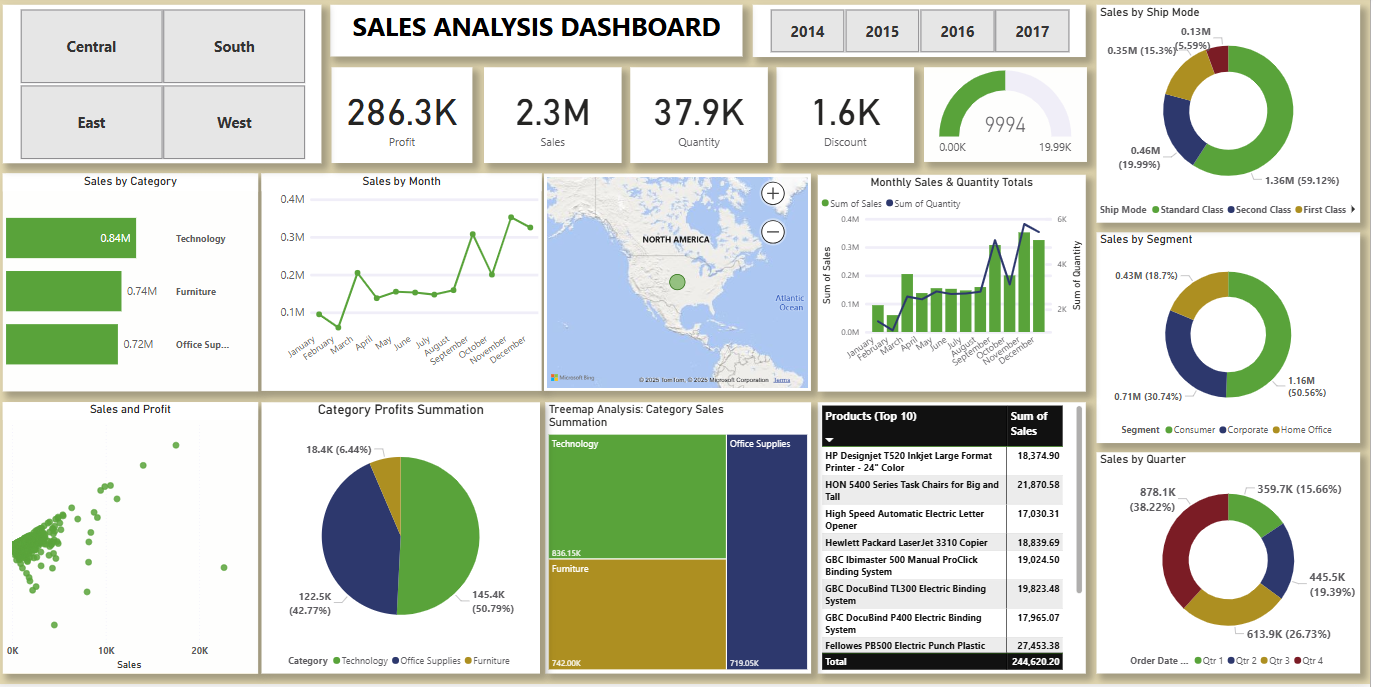

What the dashboard file says about the page in this screenshot:
{"tool":"powerbi","page":{"name":"Sales Analysis Dashboard","canvas":[2000,1000],"ordinal":0},"visuals":[{"type":"barChart","title":"Sales by Category","fields":{"Y":["Sum(sample_-_superstore xls - Orders.Sales)"],"Category":["sample_-_superstore xls - Orders.Category"]},"box":[12.4,258.1,370.9,316.8],"z":0},{"type":"lineChart","title":"Sales by Month","fields":{"Y":["Sum(sample_-_superstore xls - Orders.Sales)"],"Category":["sample_-_superstore xls - Orders.Order Date.Variation.Date Hierarchy.Month"]},"box":[388.1,257.7,407.1,316.3],"z":1000},{"type":"scatterChart","fields":{"X":["sample_-_superstore xls - Orders.Sales"],"Y":["sample_-_superstore xls - Orders.Profit"]},"box":[12.4,590.4,370.9,394.1],"z":2000},{"type":"pieChart","title":"Sales by Segment","fields":{"Category":["sample_-_superstore xls - Orders.Segment"],"Y":["Sum(sample_-_superstore xls - Orders.Sales)"]},"box":[1602.5,343.3,383.4,306.4],"z":3000},{"type":"map","title":"Sales by Country","fields":{"Category":["sample_-_superstore xls - Orders.Country"],"Size":["Sum(sample_-_superstore xls - Orders.Sales)"]},"box":[799,258,388.1,316.1],"z":4000},{"type":"slicer","fields":{"Values":["sample_-_superstore xls - Orders.Order Date.Variation.Date Hierarchy.Year"]},"box":[1103.6,12.4,483.8,75.7],"z":5000},{"type":"lineClusteredColumnComboChart","title":"Monthly Sales & Quantity Totals","fields":{"Category":["sample_-_superstore xls - Orders.Order Date.Variation.Date Hierarchy.Month"],"Y":["Sum(sample_-_superstore xls - Orders.Sales)"],"Y2":["Sum(sample_-_superstore xls - Orders.Quantity)"]},"box":[1197.8,259.7,389.5,315.3],"z":6000},{"type":"tableEx","fields":{"Values":["sample_-_superstore xls - Orders.Product Name","Sum(sample_-_superstore xls - Orders.Sales)"]},"box":[1197.8,590.4,389.5,394.1],"z":7000},{"type":"textbox","box":[488.3,12.5,599.4,75.1],"z":8000},{"type":"card","fields":{"Values":["Sum(sample_-_superstore xls - Orders.Profit)"]},"box":[489.8,103.3,205,139.3],"z":9000},{"type":"card","fields":{"Values":["Sum(sample_-_superstore xls - Orders.Sales)"]},"box":[712.1,103.3,200.3,139.3],"z":10000},{"type":"card","fields":{"Values":["Sum(sample_-_superstore xls - Orders.Discount)"]},"box":[1137.7,103.3,200.3,139.3],"z":11000},{"type":"gauge","fields":{"Y":["CountNonNull(sample_-_superstore xls - Orders.Row ID)"]},"box":[1350.9,103.6,236.5,137.6],"z":12000},{"type":"slicer","fields":{"Values":["sample_-_superstore xls - Orders.Region"]},"box":[12.7,12.7,463.3,230.7],"z":13000},{"type":"card","fields":{"Values":["Sum(sample_-_superstore xls - Orders.Quantity)"]},"box":[924.9,103.3,200.3,139.3],"z":14000},{"type":"treemap","title":"Treemap Analysis: Category Sales Summation","fields":{"Values":["Sum(sample_-_superstore xls - Orders.Sales)"],"Group":["sample_-_superstore xls - Orders.Category"]},"box":[800.6,590.4,386.4,394.1],"z":15000},{"type":"pieChart","title":"Category Profits Summation","fields":{"Category":["sample_-_superstore xls - Orders.Category"],"Y":["Sum(sample_-_superstore xls - Orders.Profit)"]},"box":[389.5,590.4,404.9,394.1],"z":16000},{"type":"donutChart","title":"Sales by Ship Mode","fields":{"Y":["Sum(sample_-_superstore xls - Orders.Sales)"],"Category":["sample_-_superstore xls - Orders.Ship Mode"]},"box":[1602.5,12.7,383.4,317],"z":17000},{"type":"donutChart","title":"Sales by Quarter","fields":{"Y":["Sum(sample_-_superstore xls - Orders.Sales)"],"Category":["sample_-_superstore xls - Orders.Order Date.Variation.Date Hierarchy.Quarter"]},"box":[1602.5,663.2,383.4,321.6],"z":18000}]}

Visuals, with their boxes in screenshot pixels (x1, y1, x2, y2), scaled from the page's 2000x1000 canvas onto the 1373x687 screenshot:
"Sales by Category" barChart: (9,177,263,395)
"Sales by Month" lineChart: (266,177,546,394)
scatterChart - sample_-_superstore xls - Orders.Sales x sample_-_superstore xls - Orders.Profit: (9,406,263,676)
"Sales by Segment" pieChart: (1100,236,1363,446)
"Sales by Country" map: (549,177,815,394)
slicer - sample_-_superstore xls - Orders.Order Date.Variation.Date Hierarchy.Year: (758,9,1090,61)
"Monthly Sales & Quantity Totals" lineClusteredColumnComboChart: (822,178,1090,395)
tableEx - sample_-_superstore xls - Orders.Product Name x Sum(sample_-_superstore xls - Orders.Sales): (822,406,1090,676)
textbox: (335,9,747,60)
card - Sum(sample_-_superstore xls - Orders.Profit): (336,71,477,167)
card - Sum(sample_-_superstore xls - Orders.Sales): (489,71,626,167)
card - Sum(sample_-_superstore xls - Orders.Discount): (781,71,919,167)
gauge - CountNonNull(sample_-_superstore xls - Orders.Row ID): (927,71,1090,166)
slicer - sample_-_superstore xls - Orders.Region: (9,9,327,167)
card - Sum(sample_-_superstore xls - Orders.Quantity): (635,71,772,167)
"Treemap Analysis: Category Sales Summation" treemap: (550,406,815,676)
"Category Profits Summation" pieChart: (267,406,545,676)
"Sales by Ship Mode" donutChart: (1100,9,1363,227)
"Sales by Quarter" donutChart: (1100,456,1363,677)
